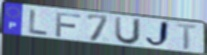7: (86, 13, 111, 44)
F: (54, 11, 82, 38)
J: (144, 20, 171, 49)
L: (28, 8, 50, 38)
T: (175, 22, 201, 51)
U: (113, 16, 143, 47)
